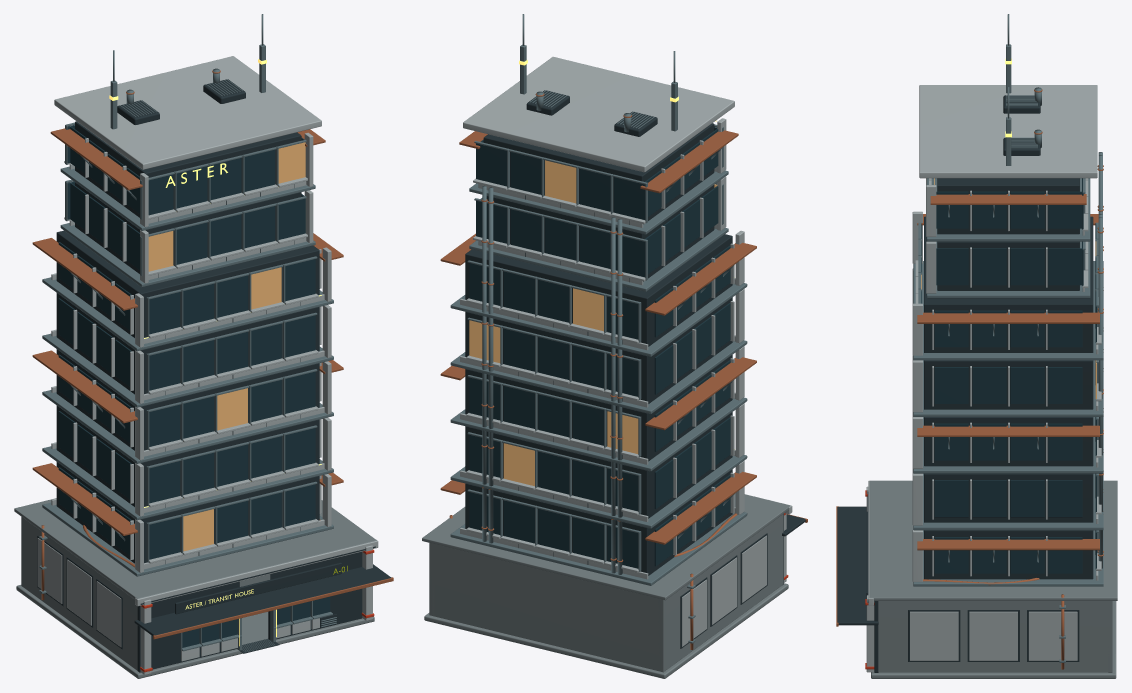
File: residential_tower.glb
3 renders of one model, left to right at view 1: azimuth 30°, elevation 25°; view 2: azimuth 150°, elevation 25°; view 3: azimuth 270°, elevation 25°, orthographic.
Parts seen in each view (by area): view 1: residential_tower; view 2: residential_tower; view 3: residential_tower.
Boxes of the visible parts, x1,y1,x2,y2 form: residential_tower: (14, 14, 393, 678); residential_tower: (422, 14, 807, 678); residential_tower: (836, 14, 1117, 678).
Bounding box in the file's own units: 18.81 × 42.36 × 18.95.
